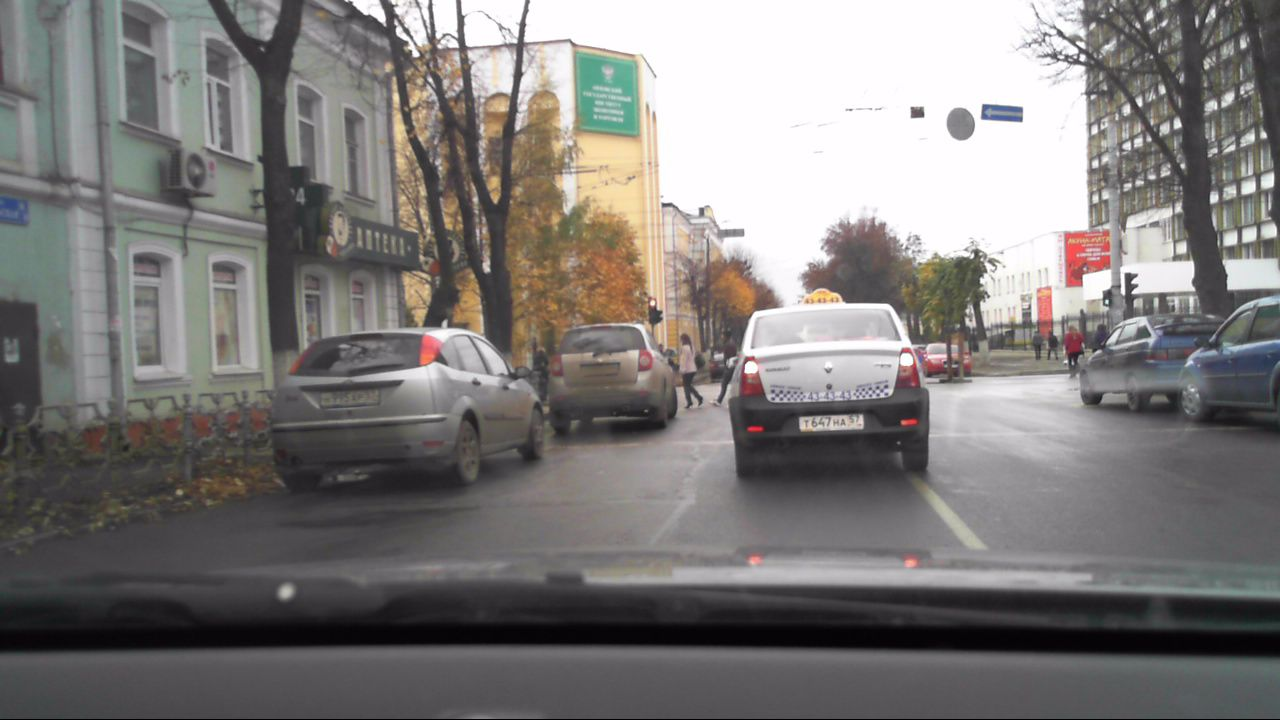One-Way Traffic: (981, 104, 1023, 122)
